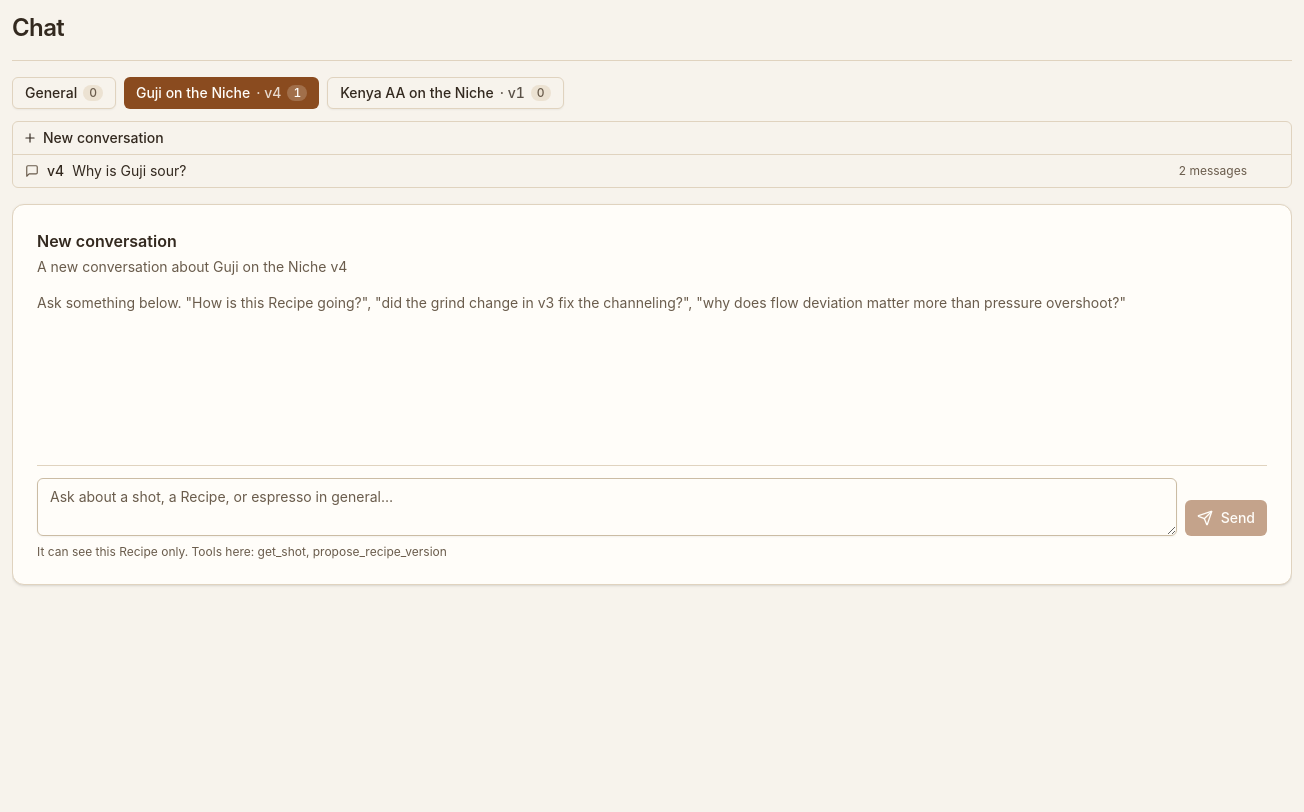
ChatPage › opens a thread and shows its transcript and usage
Click the text "Why is Guji sour?": [129, 170] box [72,162,186,179]
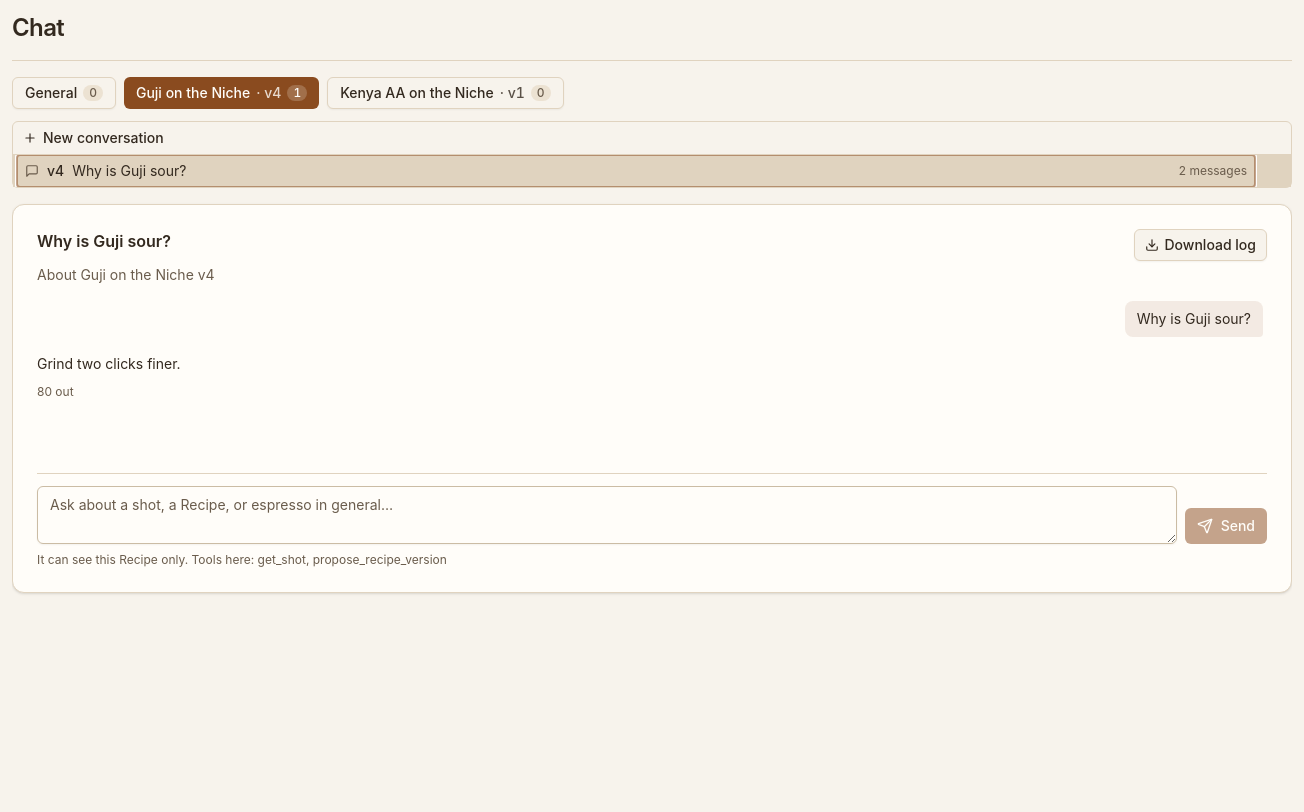
Result: the element with test id "chat-transcript" shows "Grind two clicks finer." at [37,355,181,372]
